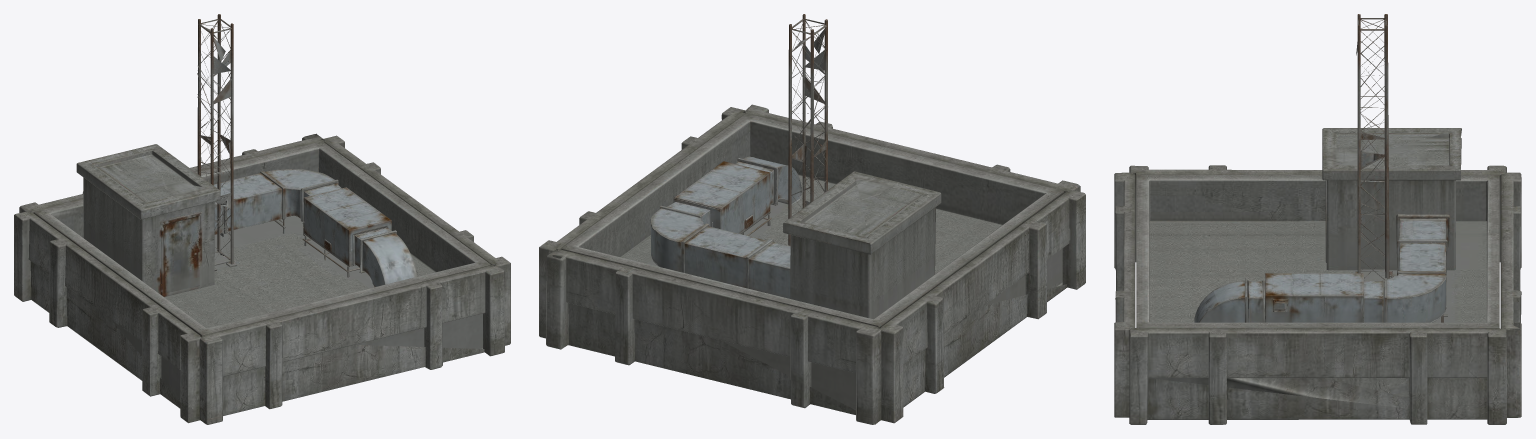
The model's file is skyscraper_roof.glb.
3 views of the same model, side by side, from view 1: azimuth 30°, elevation 25°; view 2: azimuth 150°, elevation 25°; view 3: azimuth 270°, elevation 25° (orthographic). The views are drawn at different scales.
Bounding box in the file's own units: 0.9537 × 0.8023 × 0.9575.
1 material, 1 textured.
